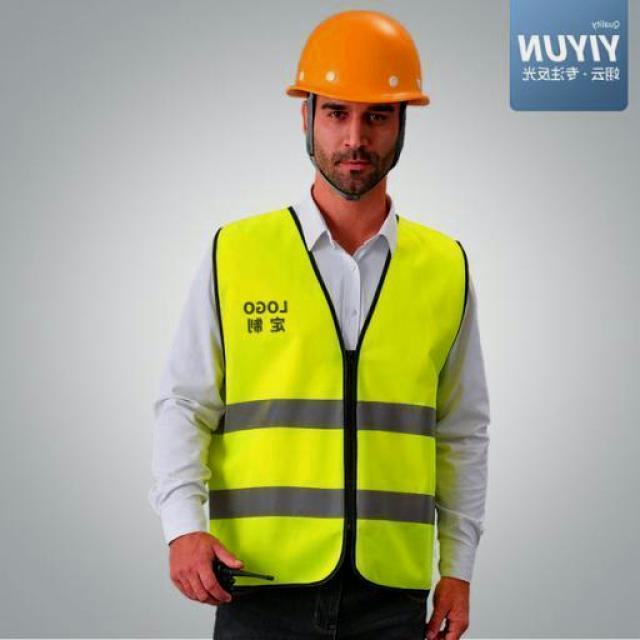face_nomask: (318, 104, 402, 182)
hand_noglove: (163, 527, 251, 608), (416, 575, 480, 640)
head_helmet: (284, 12, 430, 112)
person: (145, 7, 496, 640)
vest: (206, 203, 462, 592)
